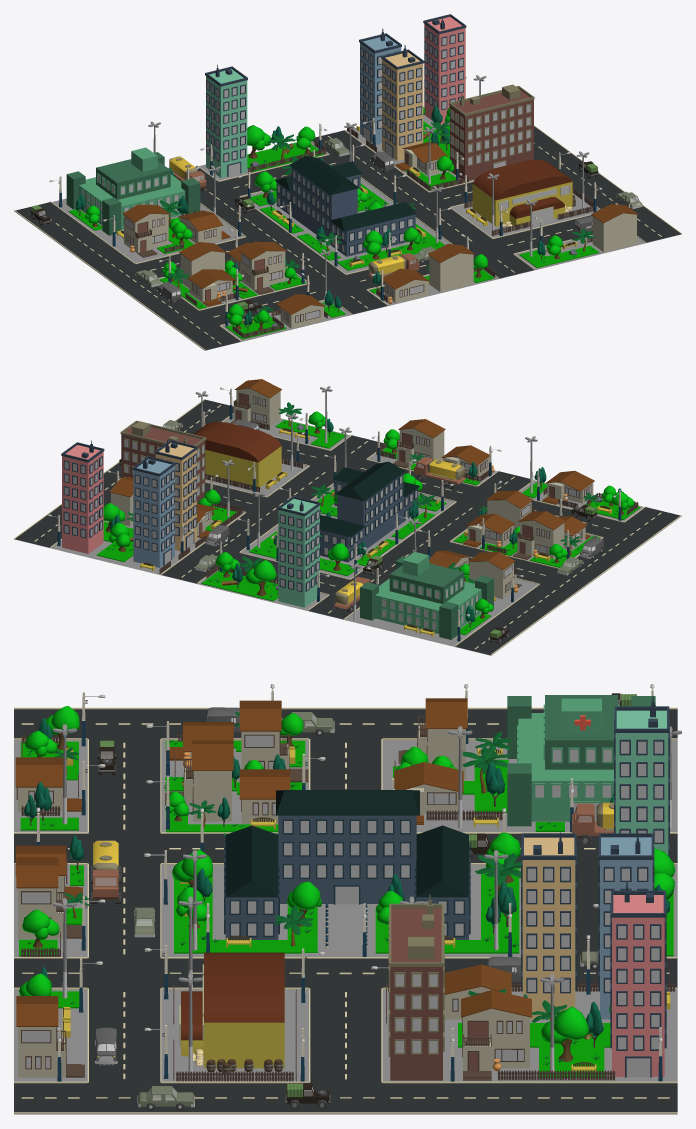
The model's file is Cidade.fbx.
3 views of the same model, one above another, from view 1: azimuth 30°, elevation 25°; view 2: azimuth 150°, elevation 25°; view 3: azimuth 270°, elevation 25° (orthographic). The views are drawn at different scales.
Parts seen in each view (by area): view 1: Escola, Plano, Predio Grande, Hospital, Mercado, Predio Torre.002, Predio Torre.003, Predio Torre.001, Predio Torre, Casa Grande.004, Casa Grande, Casa Grande.001 (+45 smaller); view 2: Hospital, Plano, Escola, Predio Torre.001, Predio Torre, Predio Torre.002, Mercado, Predio Grande, Predio Torre.003, Casa Grande.002, Casa Grande.005, Casa Grande.001 (+50 smaller); view 3: Plano, Escola, Hospital, Predio Torre.001, Mercado, Predio Grande, Predio Torre.003, Predio Torre.002, Casa Grande.003, Predio Torre, Casa Grande.002, Casa Grande (+69 smaller).
Part boxes in pixels (x1=…): Escola: x1=274, y1=156, x2=417, y2=256; Plano: x1=14, y1=115, x2=681, y2=350; Predio Grande: x1=449, y1=84, x2=534, y2=180; Hospital: x1=66, y1=147, x2=200, y2=235; Mercado: x1=472, y1=159, x2=572, y2=226; Predio Torre.002: x1=205, y1=64, x2=247, y2=177; Predio Torre.003: x1=381, y1=45, x2=424, y2=161; Predio Torre.001: x1=423, y1=14, x2=466, y2=125; Predio Torre: x1=359, y1=28, x2=401, y2=144; Casa Grande.004: x1=122, y1=204, x2=169, y2=257; Casa Grande: x1=239, y1=241, x2=286, y2=294; Casa Grande.001: x1=427, y1=244, x2=474, y2=292; Hospital: x1=360, y1=552, x2=493, y2=639; Plano: x1=14, y1=414, x2=681, y2=655; Escola: x1=277, y1=461, x2=420, y2=562; Predio Torre.001: x1=61, y1=440, x2=104, y2=553; Predio Torre: x1=132, y1=456, x2=175, y2=567; Predio Torre.002: x1=277, y1=496, x2=320, y2=607; Mercado: x1=193, y1=422, x2=281, y2=487; Predio Grande: x1=120, y1=420, x2=206, y2=503; Predio Torre.003: x1=155, y1=440, x2=197, y2=551; Casa Grande.002: x1=230, y1=379, x2=281, y2=426; Casa Grande.005: x1=512, y1=511, x2=565, y2=559; Casa Grande.001: x1=392, y1=419, x2=445, y2=468; Plano: x1=14, y1=740, x2=677, y2=1114; Escola: x1=224, y1=790, x2=470, y2=939; Hospital: x1=507, y1=695, x2=655, y2=826; Predio Torre.001: x1=610, y1=880, x2=666, y2=1077; Mercado: x1=179, y1=952, x2=284, y2=1068; Predio Grande: x1=388, y1=894, x2=444, y2=1080; Predio Torre.003: x1=521, y1=832, x2=576, y2=1019; Predio Torre.002: x1=614, y1=696, x2=669, y2=857; Casa Grande.003: x1=461, y1=990, x2=531, y2=1080; Predio Torre: x1=598, y1=832, x2=654, y2=1019; Casa Grande.002: x1=16, y1=996, x2=84, y2=1077; Casa Grande: x1=165, y1=740, x2=233, y2=821.
Size of the model in its own units: 9100 by 1927 by 6342.
